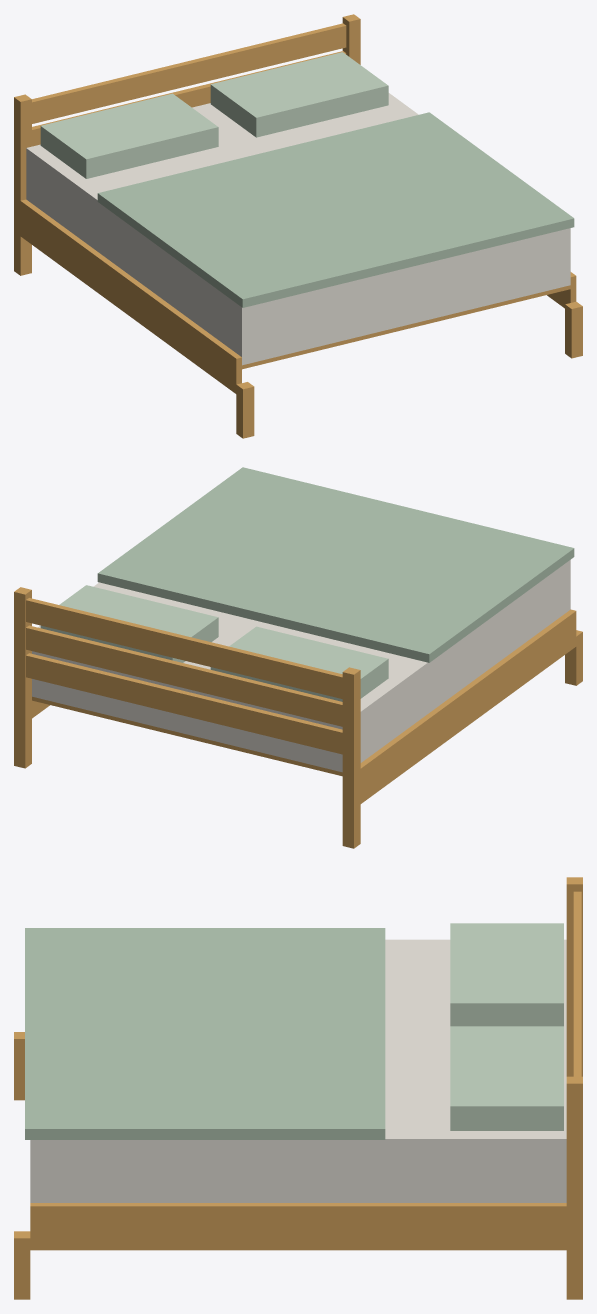
3 views of the same model, one above another, from view 1: azimuth 30°, elevation 25°; view 2: azimuth 150°, elevation 25°; view 3: azimuth 270°, elevation 25° (orthographic). The views are drawn at different scales.
Visible parts, largest first — view 1: Blanket, Mattress, Wood, PillowRight, PillowLeft; view 2: Blanket, Wood, Mattress, PillowLeft, PillowRight; view 3: Blanket, Mattress, Wood, PillowRight, PillowLeft.
Part boxes in pixels (x1,y1,x2,y2): Blanket: (97, 112, 574, 307); Mattress: (26, 93, 570, 365); Wood: (14, 14, 582, 438); PillowRight: (210, 52, 388, 137); PillowLeft: (40, 93, 218, 178); Blanket: (97, 467, 574, 662); Wood: (14, 587, 582, 848); Mattress: (32, 560, 570, 772); PillowLeft: (210, 626, 388, 701); PillowRight: (40, 585, 218, 662); Blanket: (25, 928, 385, 1139); Mattress: (30, 939, 566, 1202); Wood: (14, 877, 582, 1299); PillowRight: (450, 1026, 563, 1130); PillowLeft: (450, 923, 563, 1026).
Bounding box in the file's own units: 1.8 × 0.88 × 2.1.
